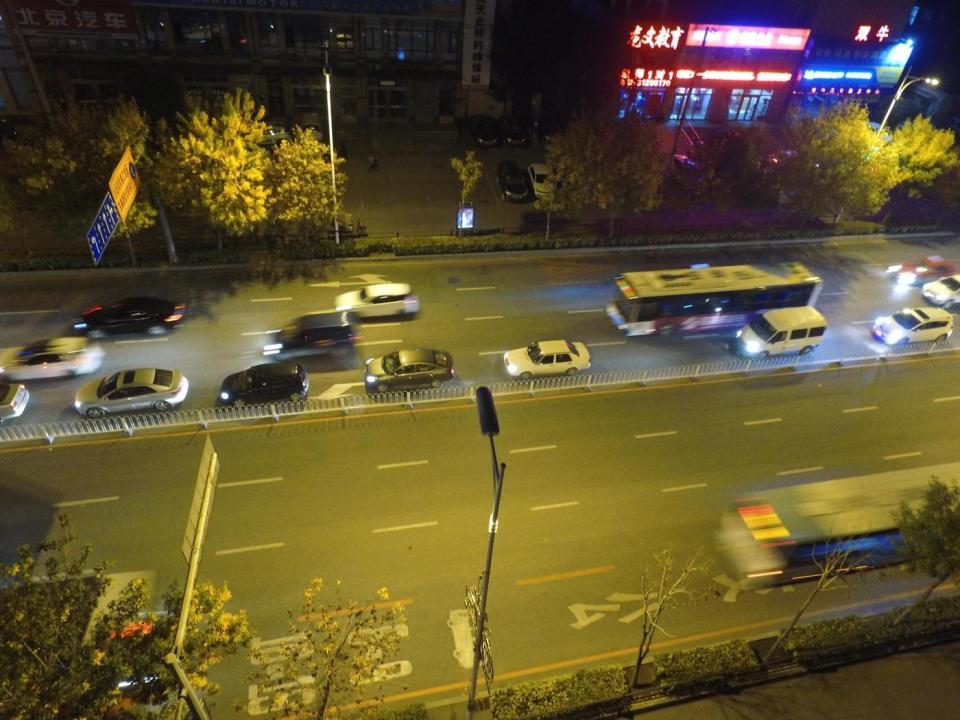bus: (722, 460, 960, 594), (610, 260, 827, 342), (893, 255, 960, 288), (921, 271, 960, 307)
car: (71, 367, 190, 415), (1, 338, 107, 381), (363, 347, 457, 395), (214, 361, 312, 405), (78, 299, 187, 338), (871, 308, 955, 347), (500, 340, 596, 374), (336, 284, 420, 318), (668, 151, 708, 197), (240, 121, 296, 147), (496, 158, 530, 200), (766, 149, 820, 170), (528, 160, 557, 199), (468, 113, 500, 148), (296, 110, 323, 142), (498, 116, 526, 146), (538, 110, 564, 141)
van: (267, 312, 358, 366), (735, 309, 827, 360)
